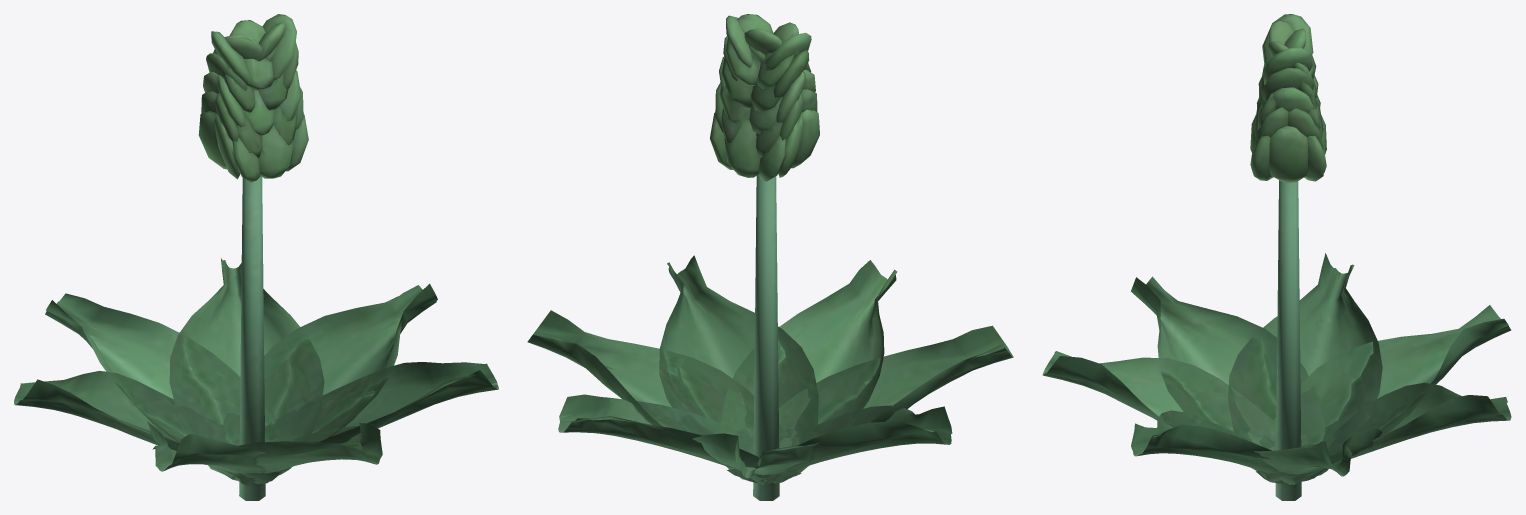
Rendered from crop_artichoke.glb.
3 views of the same model, side by side, from view 1: azimuth 30°, elevation 25°; view 2: azimuth 150°, elevation 25°; view 3: azimuth 270°, elevation 25° (orthographic).
Visible parts, largest first — view 1: crop_artichoke, fruit; view 2: crop_artichoke, fruit; view 3: crop_artichoke, fruit.
Part boxes in pixels (x1,y1,x2,y2): crop_artichoke: (14, 176, 498, 500); fruit: (198, 14, 308, 182); crop_artichoke: (527, 174, 1013, 500); fruit: (710, 14, 819, 181); crop_artichoke: (1042, 180, 1511, 500); fruit: (1250, 14, 1326, 183).
Bounding box in the file's own units: 0.2932 × 0.3126 × 0.2861.
1 material, 1 textured.
